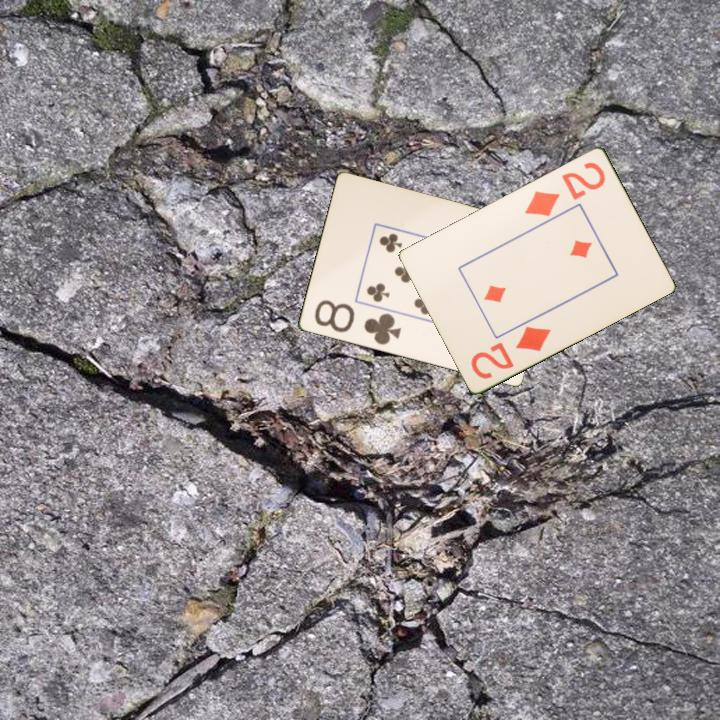2d: (521, 158, 608, 219), (467, 322, 554, 382)
8c: (311, 296, 404, 348)
